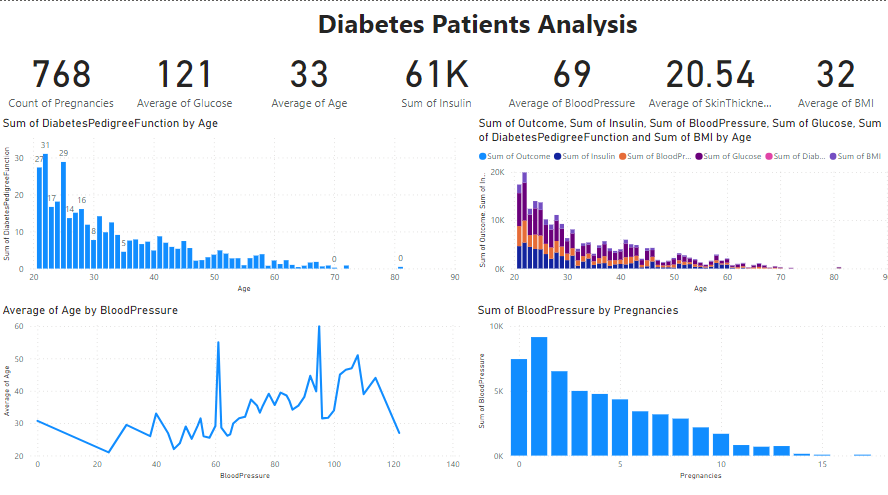

What the dashboard file says about the page in this screenshot:
{"tool":"powerbi","page":{"name":"Page 1","canvas":[1280,720],"ordinal":0},"visuals":[{"type":"textbox","box":[382.5,0,560.3,63.7],"z":0},{"type":"columnChart","fields":{"Category":["diabetes.Age"],"Y":["Sum(diabetes.DiabetesPedigreeFunction)"]},"box":[0,164.4,662.6,256.7],"z":1000},{"type":"lineStackedColumnComboChart","fields":{"Category":["diabetes.Age"],"Y":["Sum(diabetes.Outcome)","Sum(diabetes.Insulin)","Sum(diabetes.BloodPressure)","Sum(diabetes.Glucose)","Sum(diabetes.DiabetesPedigreeFunction)","Sum(diabetes.BMI)"]},"box":[679.4,164.4,600.6,256.7],"z":2000},{"type":"card","fields":{"Values":["CountNonNull(diabetes.Pregnancies)"]},"box":[0,50,177.4,113.7],"z":3000},{"type":"card","fields":{"Values":["Avg(diabetes.Glucose)"]},"box":[177.4,50,175.7,113.7],"z":4000},{"type":"card","fields":{"Values":["Avg(diabetes.Age)"]},"box":[353.2,50,180.9,113.7],"z":5000},{"type":"card","fields":{"Values":["Sum(diabetes.Insulin)"]},"box":[534.1,50,180.9,113.7],"z":6000},{"type":"lineChart","fields":{"Y":["Avg(diabetes.Age)"],"Category":["diabetes.BloodPressure"]},"box":[0,432,663,257],"z":7000},{"type":"card","fields":{"Values":["Avg(diabetes.BloodPressure)"]},"box":[714.9,50,208.5,113.7],"z":8000},{"type":"card","fields":{"Values":["Avg(diabetes.SkinThickness)"]},"box":[923.4,50,186.1,113.7],"z":9000},{"type":"card","fields":{"Values":["Avg(diabetes.BMI)"]},"box":[1109.4,50,170.6,113.7],"z":10000},{"type":"columnChart","fields":{"Y":["Sum(diabetes.BloodPressure)"],"Category":["diabetes.Pregnancies"]},"box":[679,432,601,257],"z":11000}]}

Visuals, with their boxes in screenshot pixels (x1, y1, x2, y2), scaled from the page's 1280x720 canvas onto the 888x495 screenshot:
textbox: 265 0 654 44
columnChart - diabetes.Age x Sum(diabetes.DiabetesPedigreeFunction): 0 113 460 290
lineStackedColumnComboChart - diabetes.Age x Sum(diabetes.Outcome): 471 113 887 290
card - CountNonNull(diabetes.Pregnancies): 0 34 123 113
card - Avg(diabetes.Glucose): 123 34 245 113
card - Avg(diabetes.Age): 245 34 371 113
card - Sum(diabetes.Insulin): 371 34 496 113
lineChart - Avg(diabetes.Age) x diabetes.BloodPressure: 0 297 460 474
card - Avg(diabetes.BloodPressure): 496 34 641 113
card - Avg(diabetes.SkinThickness): 641 34 770 113
card - Avg(diabetes.BMI): 770 34 887 113
columnChart - Sum(diabetes.BloodPressure) x diabetes.Pregnancies: 471 297 887 474
